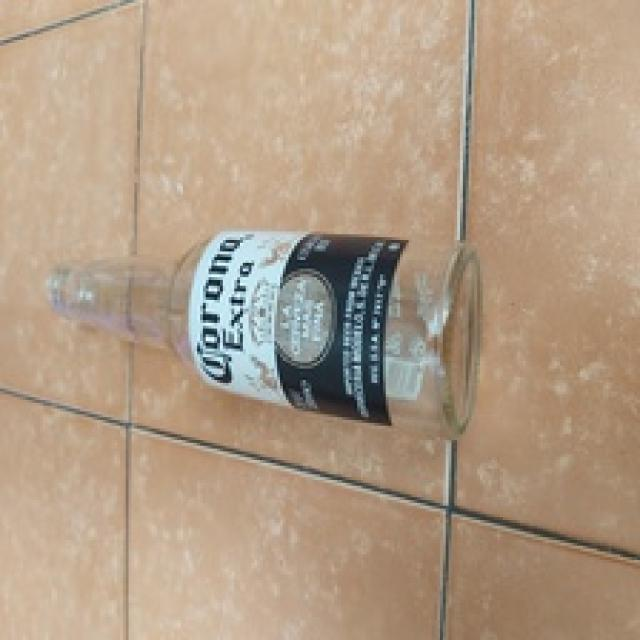Glass: (53, 234, 482, 436)
